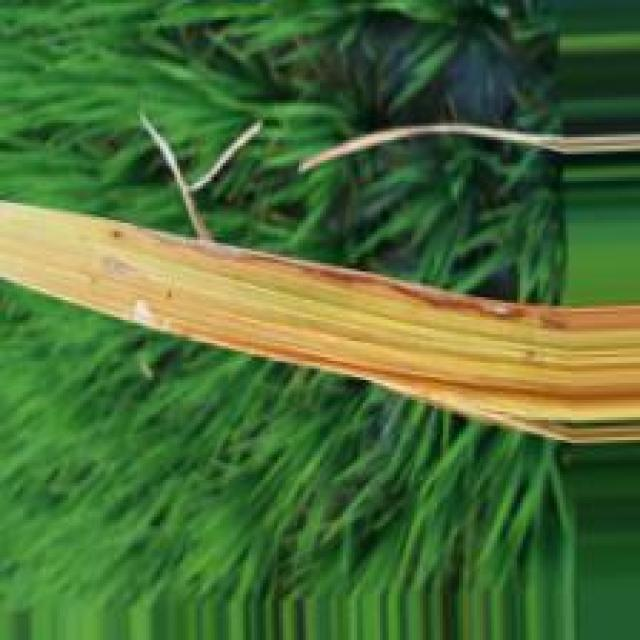Bacterial_Leaf_Blight: (0, 200, 640, 441)
